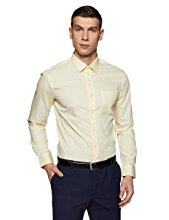Shirts: (21, 48, 151, 180)
